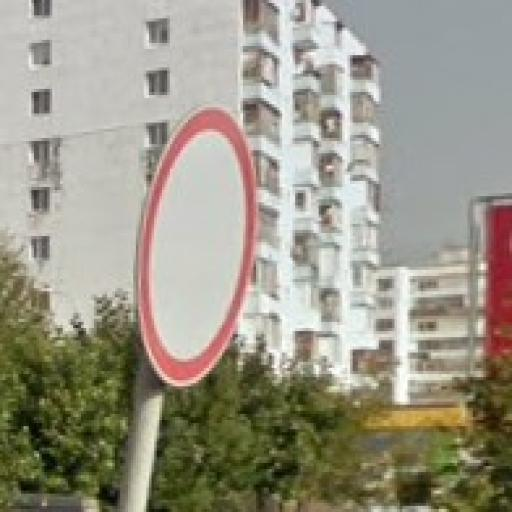traffic_sign: (137, 106, 257, 391)
